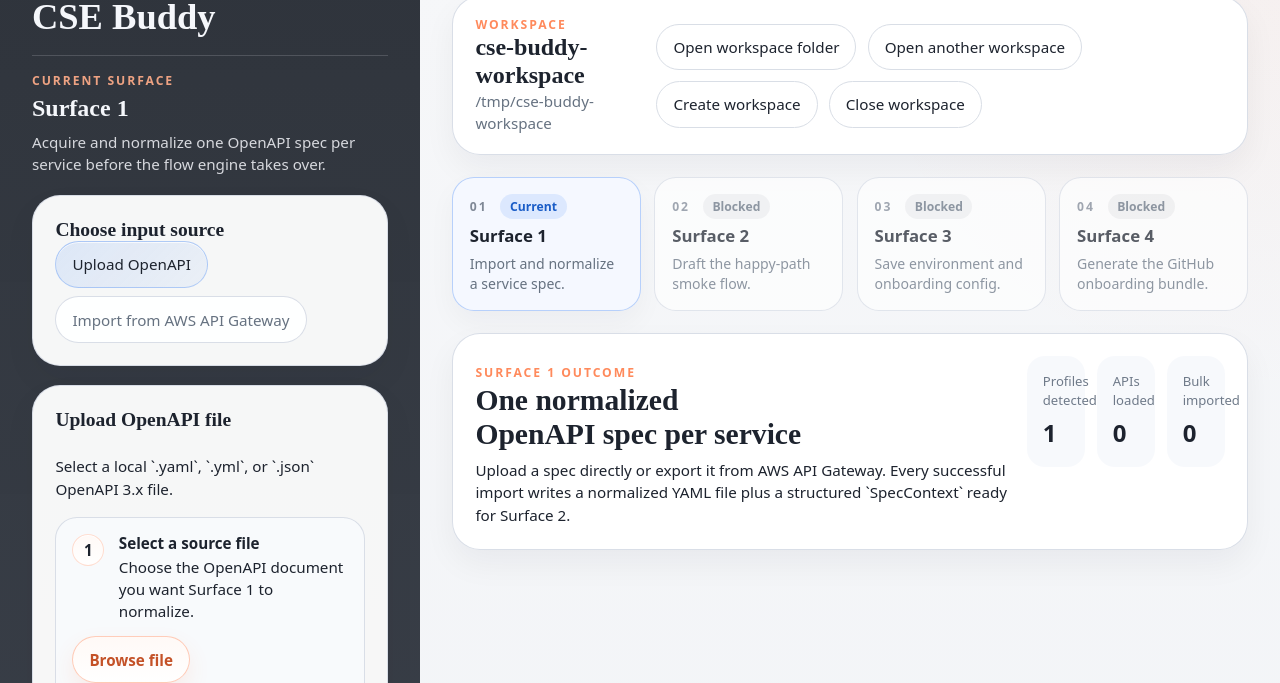
App › keeps pending AWS Test access feedback scoped when another AWS action runs
The width and height of the screenshot is (1280, 683).
What coordinates should you click on to do the following:
click the button "Import from AWS API Gateway"
I would click on:
 (181, 320)
Its box is left=55, top=296, right=306, bottom=343.
(page scrolled)
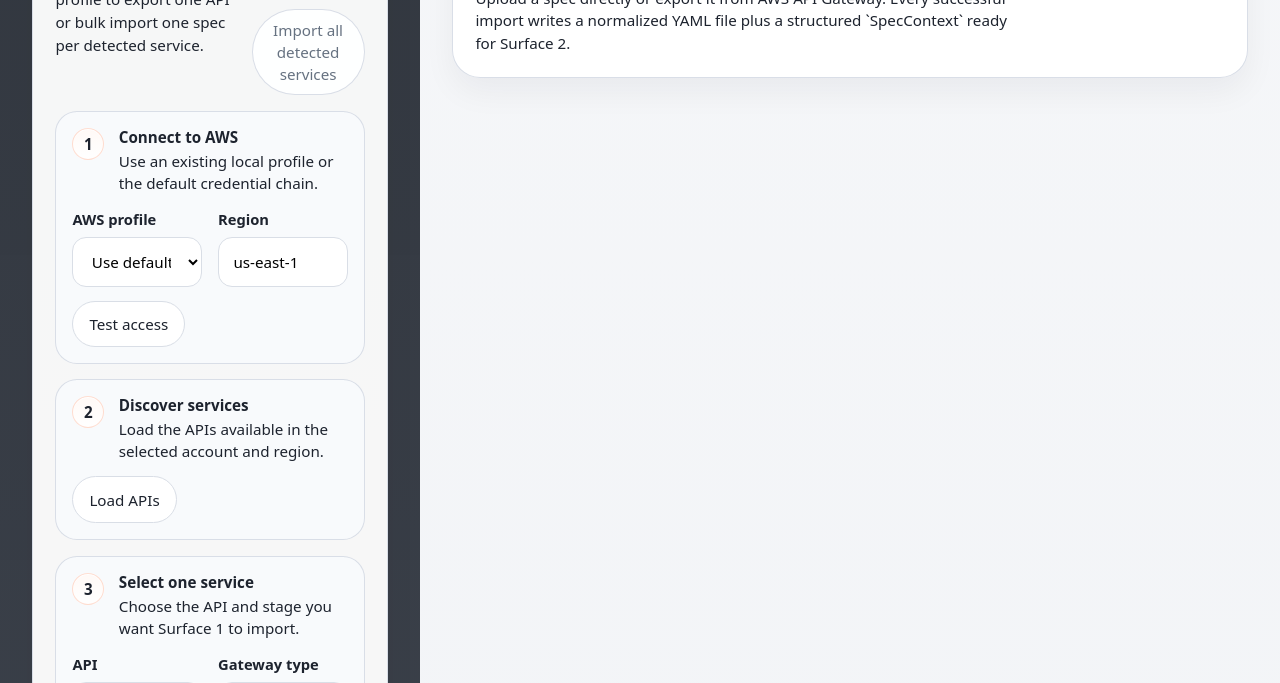
What coordinates should you click on to do the following:
click the button "Test access"
I would click on:
 (129, 324)
Its box is left=72, top=301, right=185, bottom=347.
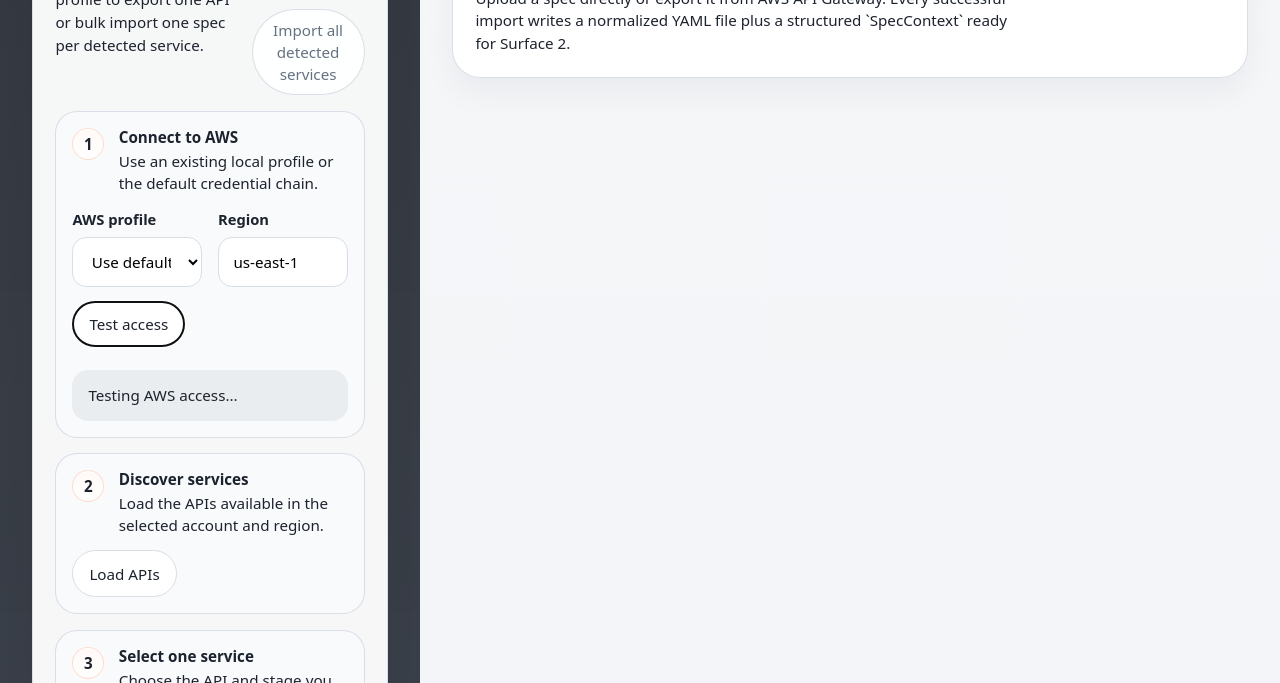
What coordinates should you click on to do the following:
click the button "Load APIs"
I would click on:
 (125, 574)
Its box is left=72, top=550, right=177, bottom=597.
(page scrolled)
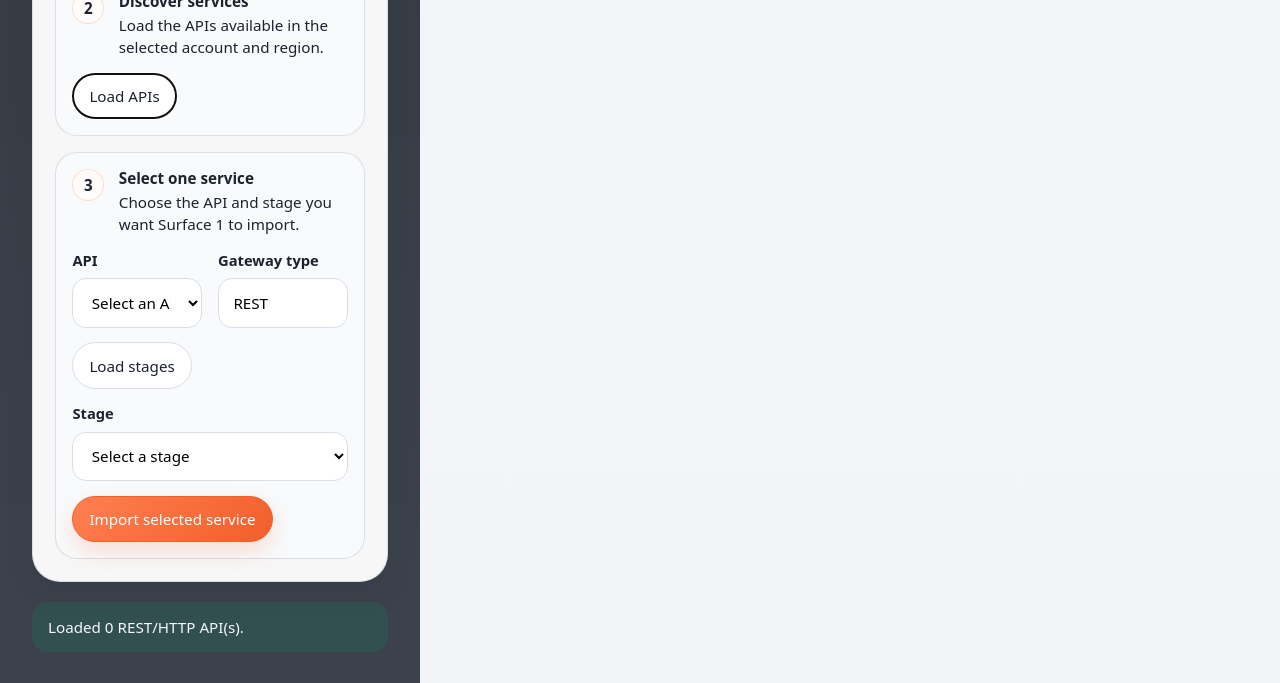
Expected: the text "Loaded 0 REST/HTTP API(s)." is shown, left=32, top=602, right=388, bottom=652
